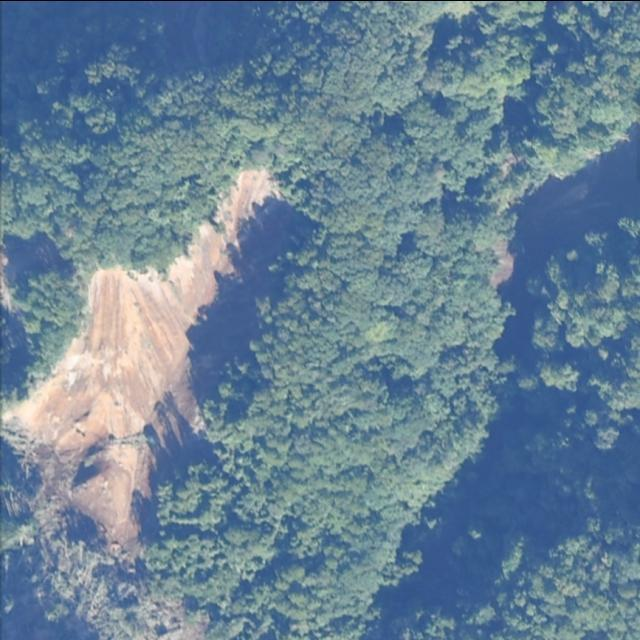landslide: (2, 168, 281, 551)
